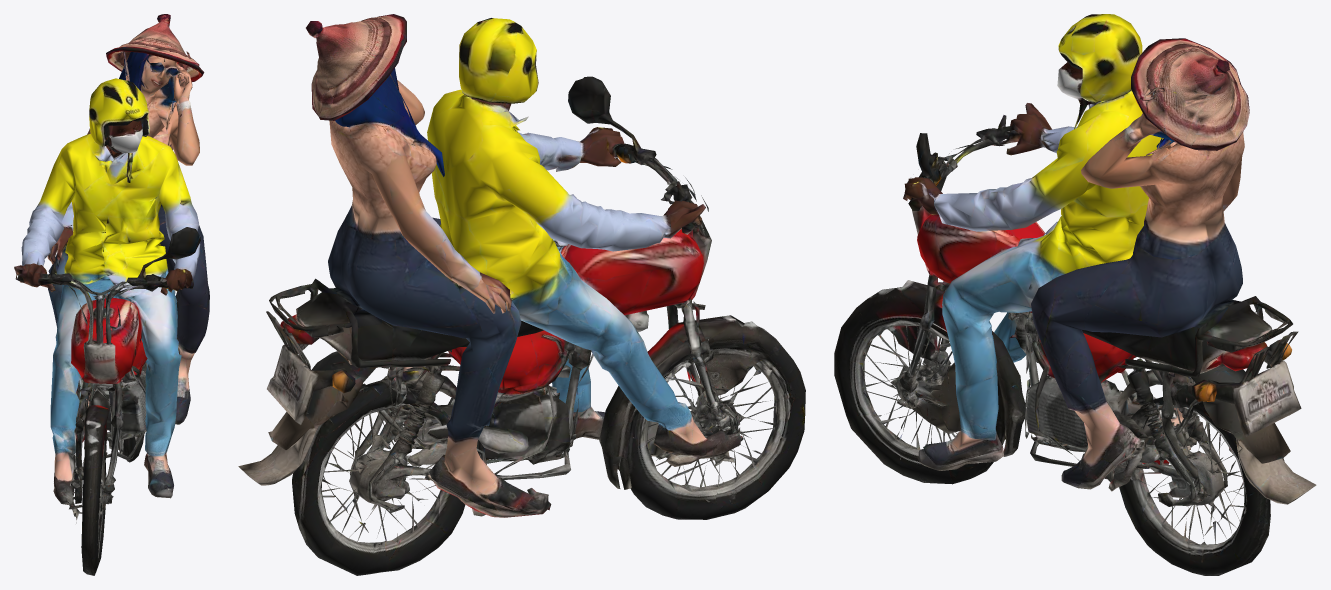
Rendered from zem-lod.glb.
3 views of the same model, side by side, from view 1: azimuth 30°, elevation 25°; view 2: azimuth 150°, elevation 25°; view 3: azimuth 270°, elevation 25° (orthographic). The views are drawn at different scales.
Bounding box in the file's own units: 1.24 × 1.9 × 1.54.
1 material, 1 textured.
